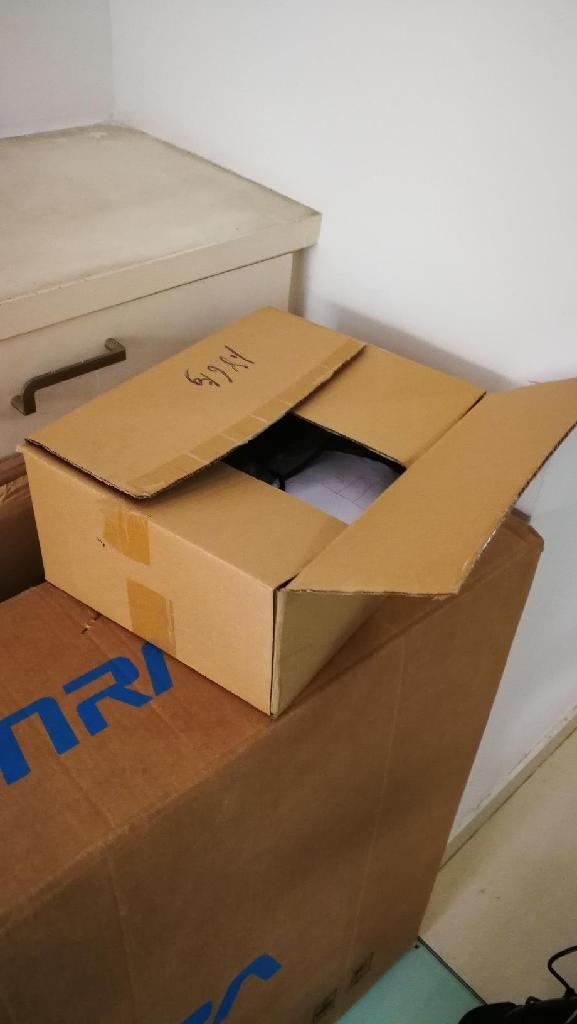cardboard: (0, 504, 541, 1023), (25, 309, 576, 714), (0, 125, 320, 403)
